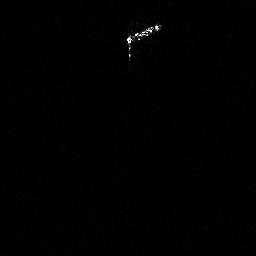ship: (126, 24, 162, 43)
